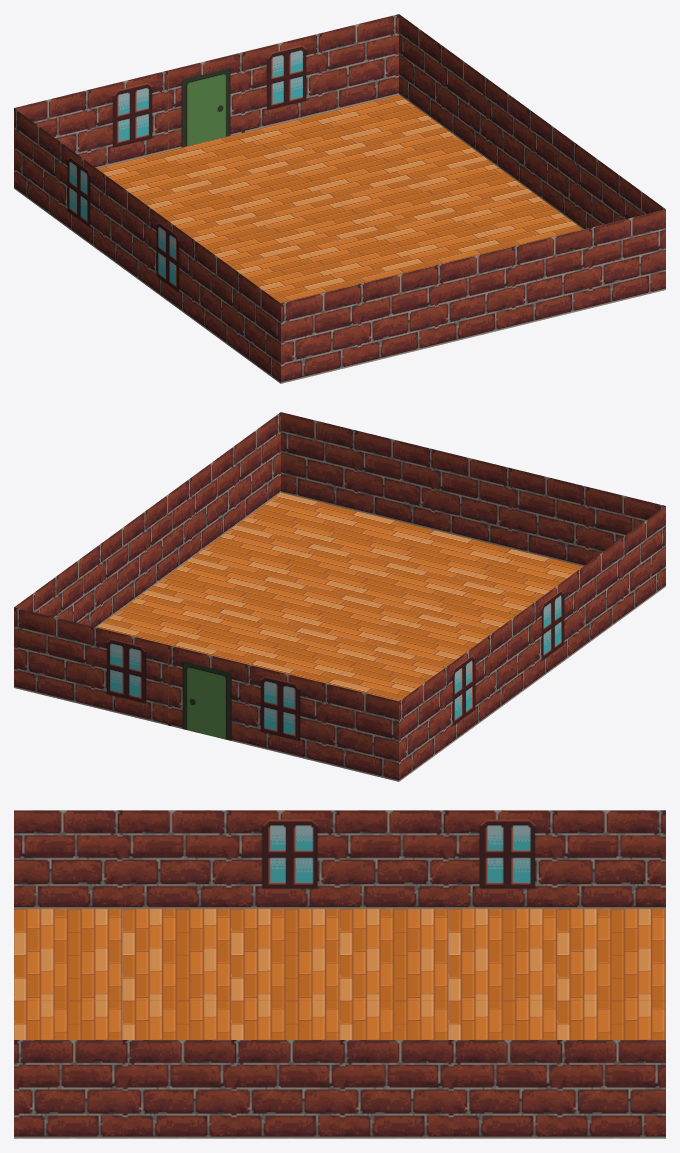
File: level.obj
The picture shows the model from 3 angles, top to bottom: view 1: azimuth 30°, elevation 25°; view 2: azimuth 150°, elevation 25°; view 3: azimuth 270°, elevation 25°; orthographic projection. The views are drawn at different scales.
Parts seen in each view (by area): view 1: Door, Wall.008, Wall.003, Wall.004, Wall.002, Wall.006, Wall.011, Wall.012, Wall.001, Wall.005, Wall.007, Wall.010 (+26 smaller); view 2: Door, Wall.008, Wall, Wall.001, Wall.003, Wall.004, Wall.011, Wall.012, Wall.006, Wall.005, Wall.007, Wall.009 (+26 smaller); view 3: Wall.009, Window.001, Wall.014, Wall.017, Wall.005, Wall.007, Wall.010, Window, Wall.013, Wall.015, Wall.016, Wall.018 (+18 smaller).
Part boxes in pixels (<box>): Door: <box>168,51,244,150</box>; Wall.008: <box>435,247,511,346</box>; Wall.003: <box>245,33,321,131</box>; Wall.004: <box>322,14,398,113</box>; Wall.002: <box>281,284,357,383</box>; Wall.006: <box>358,266,434,364</box>; Wall.011: <box>512,228,588,327</box>; Wall.012: <box>589,209,665,308</box>; Wall.001: <box>91,70,167,168</box>; Wall.005: <box>14,108,58,220</box>; Wall.007: <box>103,173,147,285</box>; Wall.010: <box>236,271,280,383</box>; Door: <box>168,645,244,744</box>; Wall.008: <box>435,449,511,548</box>; Wall: <box>322,682,398,781</box>; Wall.001: <box>245,664,321,762</box>; Wall.003: <box>91,626,167,725</box>; Wall.004: <box>14,607,90,706</box>; Wall.011: <box>358,431,434,529</box>; Wall.012: <box>281,412,357,511</box>; Wall.006: <box>512,468,588,566</box>; Wall.005: <box>399,669,443,781</box>; Wall.007: <box>488,604,532,716</box>; Wall.009: <box>577,539,621,651</box>; Wall.009: <box>122,810,231,908</box>; Window.001: <box>448,810,557,908</box>; Wall.014: <box>122,1040,231,1138</box>; Wall.017: <box>448,1040,557,1138</box>; Wall.005: <box>557,810,665,908</box>; Wall.007: <box>340,810,448,908</box>; Wall.010: <box>14,810,122,908</box>; Window: <box>231,810,339,908</box>; Wall.013: <box>14,1040,122,1138</box>; Wall.015: <box>231,1040,339,1138</box>; Wall.016: <box>340,1040,448,1138</box>; Wall.018: <box>557,1040,665,1138</box>.
Bounding box in the file's own units: 2560 × 512 × 3072.
1 material, 1 textured.
